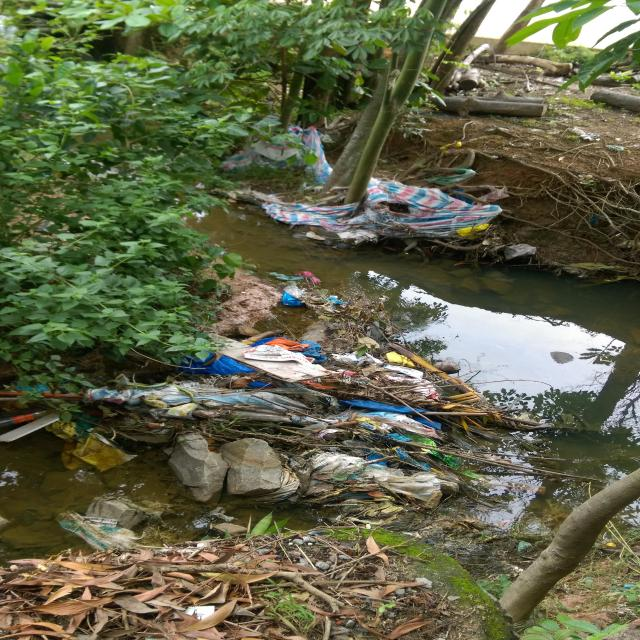litter: (88, 315, 554, 522), (234, 149, 531, 251)
